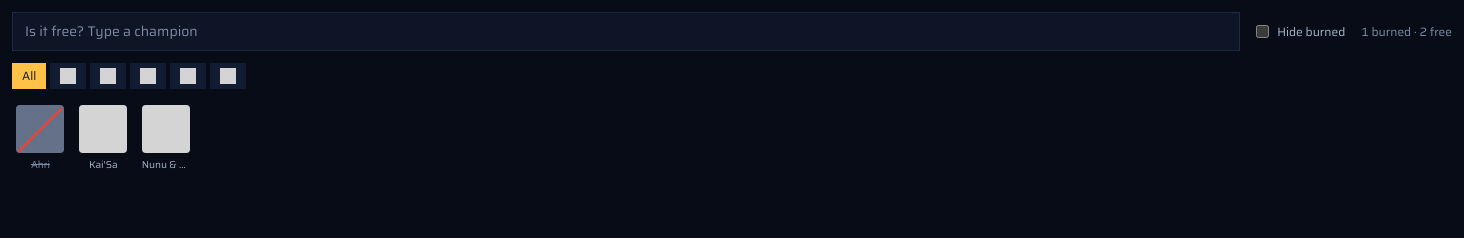
FearlessGrid › answers the question once the search narrows to one champion
Type "ahri" into the search field at (626, 32), box x1=12 y1=12 x2=1240 y2=51
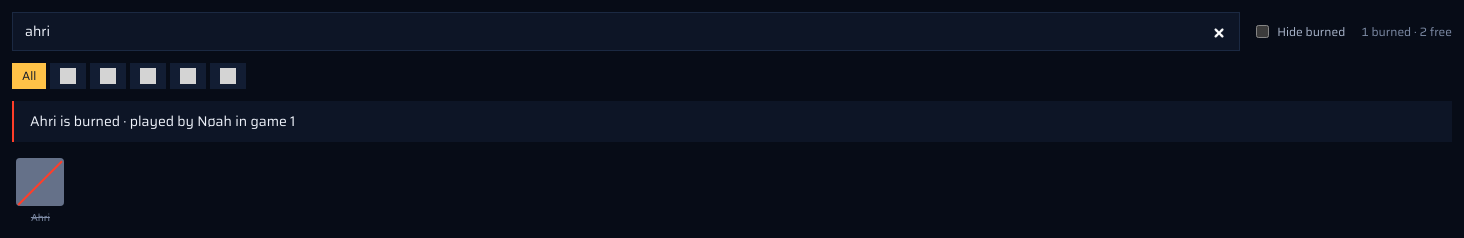
Expected: the text "Ahri is burned · played by Nøah in game 1" is shown, x1=12 y1=101 x2=1452 y2=142
